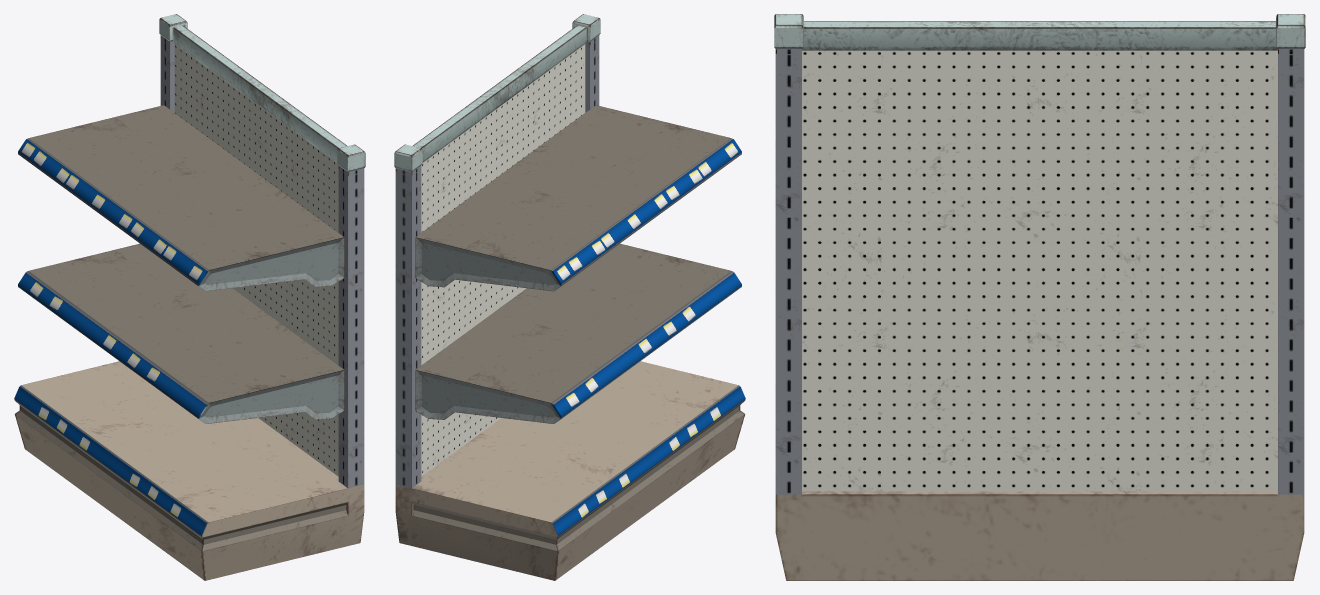
Rendered from SmallShelf.fbx.
The picture shows the model from 3 angles, left to right: view 1: azimuth 30°, elevation 25°; view 2: azimuth 150°, elevation 25°; view 3: azimuth 270°, elevation 25°; orthographic projection. The views are drawn at different scales.
Visible parts, largest first — view 1: shelf_Base_shortexp, shelf_piece_exp004, shelf_piece_exp003; view 2: shelf_Base_shortexp, shelf_piece_exp004, shelf_piece_exp003; view 3: shelf_Base_shortexp.
Part boxes in pixels (box(x1,y1,x2,y2)): shelf_Base_shortexp: box(14, 14, 365, 580); shelf_piece_exp004: box(18, 105, 344, 291); shelf_piece_exp003: box(18, 243, 344, 423); shelf_Base_shortexp: box(394, 14, 745, 580); shelf_piece_exp004: box(415, 105, 741, 291); shelf_piece_exp003: box(415, 243, 741, 423); shelf_Base_shortexp: box(774, 14, 1305, 580).
Bounding box in the file's own units: 128 × 295 × 255.
